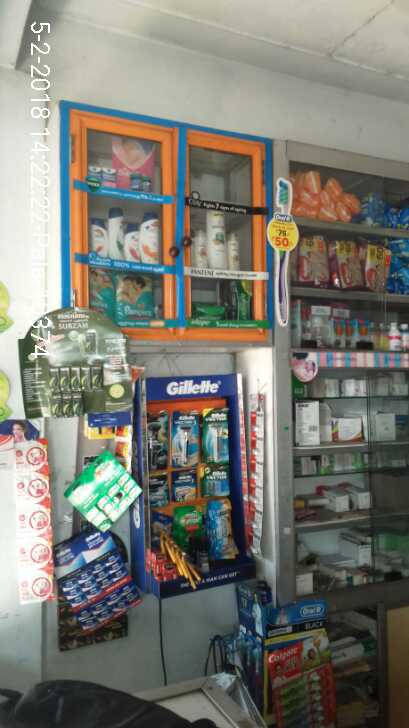oralcare: (226, 588, 266, 700)
vicks: (90, 168, 157, 191)
